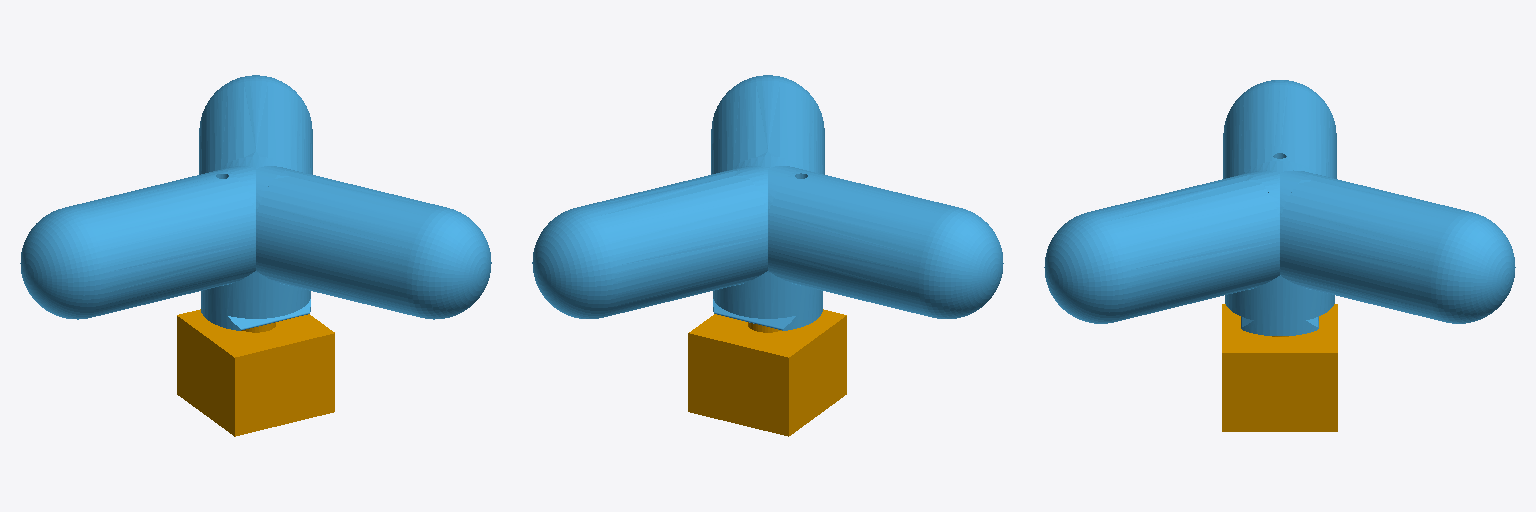
URDF robot description (dclaw_3x):
<?xml version="1.0" encoding="utf-8"?>
<robot name="dclaw_3x">
  <link name="dclaw_down">
    <visual>
      <geometry>
        <mesh filename="visual/triValve_down.stl" scale="0.001 0.001 0.001"/>
      </geometry>
    </visual>
    <collision>
      <geometry>
        <mesh filename="collision/triValve_down_collision.obj" scale="0.001 0.001 0.001"/>
      </geometry>
    </collision>
  </link>
  <link name="dclaw_up">
    <visual>
      <geometry>
        <mesh filename="visual/triValve_up.obj" scale="0.001 0.001 0.001"/>
      </geometry>
    </visual>
    <collision>
      <geometry>
        <mesh filename="collision/triValve_up_collision.obj" scale="0.001 0.001 0.001"/>
      </geometry>
    </collision>
  </link>
  <joint name="valve_joint" type="continuous">
    <parent link="dclaw_down"/>
    <child link="dclaw_up"/>
    <origin rpy="0 0 0" xyz="0 0 0.03"/>
    <axis xyz="0 0 1"/>
  </joint>
</robot>

--- Render facts (derived) ---
3 views of the same robot in one strip: view 1: azimuth 30°, elevation 25°; view 2: azimuth 150°, elevation 25°; view 3: azimuth 270°, elevation 25° (orthographic).
Model dclaw_3x with 2 links and 1 joints (1 continuous), rooted at dclaw_down, posed every joint at zero.
Visible links, largest first — view 1: dclaw_up, dclaw_down; view 2: dclaw_up, dclaw_down; view 3: dclaw_up, dclaw_down.
Link boxes in pixels (<box>): dclaw_up: <box>20,75,491,330</box>; dclaw_down: <box>177,309,334,436</box>; dclaw_up: <box>532,75,1003,330</box>; dclaw_down: <box>688,309,846,436</box>; dclaw_up: <box>1044,80,1515,335</box>; dclaw_down: <box>1222,304,1337,431</box>.
Bounding box of the posed robot: 0.1456 × 0.1621 × 0.0894 m (x, y, z).
Meshes: 2 distinct files referenced, 2 mesh visuals loaded (1 binary STL, 1 OBJ).
